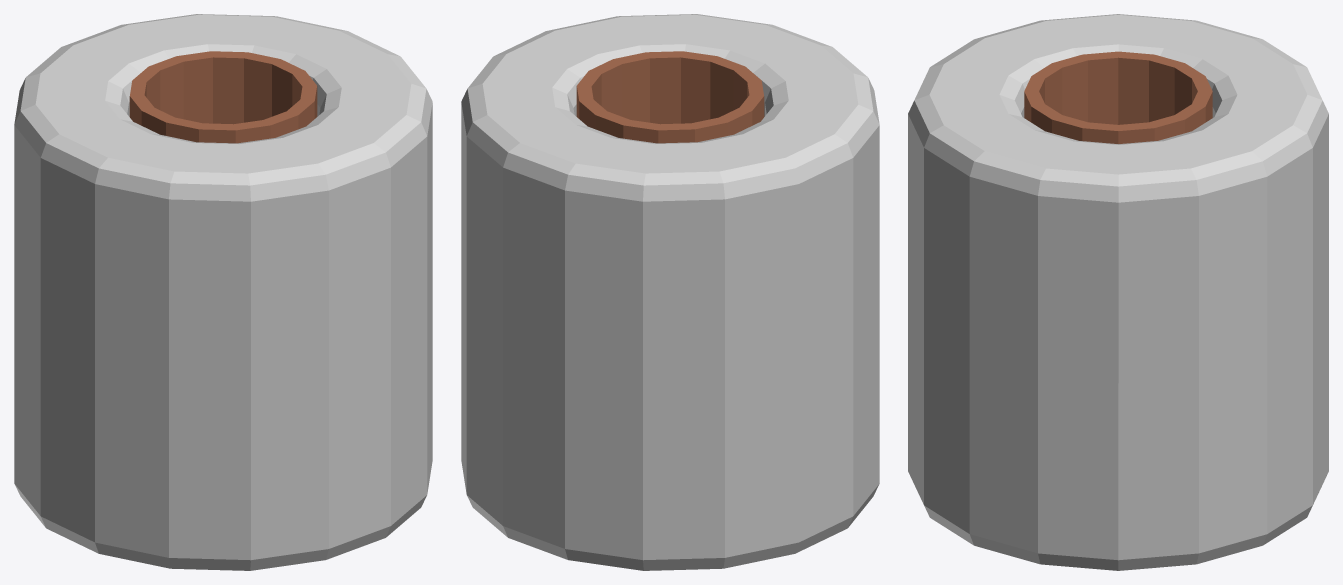
The model's file is PapelHigienico.fbx.
3 renders of one model, left to right at view 1: azimuth 30°, elevation 25°; view 2: azimuth 150°, elevation 25°; view 3: azimuth 270°, elevation 25°, orthographic.
Visible parts, largest first — view 1: Circle, Circle.001; view 2: Circle, Circle.001; view 3: Circle, Circle.001.
Boxes of the visible parts, x1,y1,x2,y2 form: Circle: [14, 14, 432, 570]; Circle.001: [129, 51, 317, 143]; Circle: [461, 14, 879, 570]; Circle.001: [576, 51, 764, 143]; Circle: [908, 14, 1328, 570]; Circle.001: [1024, 51, 1212, 143].
Bounding box in the file's own units: 20 × 20.92 × 20.
